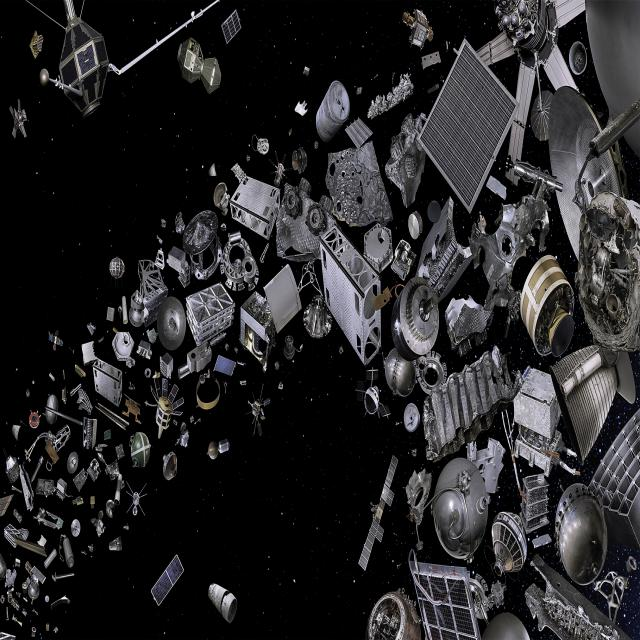large_debris: (547, 3, 640, 268), (34, 0, 226, 128), (445, 151, 562, 355), (467, 2, 586, 172), (418, 30, 523, 219), (419, 338, 524, 466), (549, 338, 636, 472), (574, 187, 638, 358), (522, 548, 634, 640), (319, 222, 391, 362), (429, 433, 506, 563), (322, 101, 392, 236), (406, 548, 507, 640), (586, 401, 638, 570), (508, 362, 579, 483), (514, 245, 578, 365), (260, 253, 332, 348), (351, 448, 404, 576), (554, 475, 609, 590), (273, 173, 337, 264), (384, 106, 430, 208), (393, 270, 440, 364), (174, 19, 224, 104), (225, 174, 283, 243), (236, 284, 279, 368), (186, 280, 237, 349), (128, 244, 167, 330), (367, 582, 423, 640), (489, 503, 529, 583), (175, 328, 230, 384), (475, 184, 520, 252), (363, 70, 415, 128), (314, 70, 352, 147), (183, 206, 220, 284), (144, 375, 185, 443), (403, 466, 432, 554), (353, 360, 387, 432), (148, 548, 186, 610), (478, 597, 530, 640), (23, 422, 71, 467), (245, 378, 273, 447), (380, 350, 418, 400), (156, 296, 186, 352), (92, 356, 124, 408), (97, 449, 125, 506), (400, 8, 436, 52), (42, 391, 84, 428), (206, 578, 239, 624), (362, 224, 392, 274), (192, 368, 226, 412), (2, 523, 48, 555), (127, 427, 152, 475), (173, 413, 203, 452), (7, 96, 30, 145), (93, 402, 131, 431), (22, 560, 46, 605), (124, 478, 149, 519), (111, 327, 135, 368), (34, 476, 73, 501), (167, 244, 190, 286), (248, 125, 274, 162), (420, 37, 444, 76), (564, 42, 591, 76), (218, 9, 242, 47), (32, 505, 65, 531), (104, 293, 128, 328), (212, 351, 238, 383), (18, 462, 34, 512), (204, 436, 233, 463), (212, 180, 231, 220), (107, 250, 128, 286), (2, 446, 21, 484), (121, 392, 142, 425), (160, 449, 179, 485), (28, 27, 46, 63), (0, 552, 17, 589), (282, 329, 300, 363), (81, 416, 98, 451), (59, 533, 76, 568), (404, 400, 418, 440), (289, 150, 311, 174), (76, 386, 93, 416), (157, 352, 175, 380), (71, 466, 89, 493), (90, 510, 106, 539), (81, 338, 96, 368), (47, 328, 64, 354), (134, 340, 153, 362), (294, 98, 310, 124), (30, 455, 44, 484), (50, 593, 71, 612), (87, 457, 102, 482), (0, 492, 15, 517), (175, 209, 188, 237), (28, 406, 43, 430), (144, 324, 159, 346), (43, 547, 57, 570), (66, 451, 79, 475), (108, 534, 123, 554), (51, 571, 76, 583), (70, 517, 82, 539), (74, 362, 87, 382), (301, 59, 312, 79), (207, 160, 217, 181), (106, 498, 116, 519), (70, 382, 82, 398), (115, 442, 125, 461), (12, 423, 21, 442), (0, 630, 17, 640), (61, 384, 68, 406), (12, 613, 23, 627), (160, 216, 169, 232), (13, 507, 22, 523), (6, 587, 15, 603), (87, 321, 97, 335), (142, 366, 152, 380), (45, 458, 54, 473), (72, 496, 84, 507), (11, 483, 23, 494), (127, 380, 137, 393), (12, 598, 21, 612), (103, 428, 111, 441), (97, 334, 105, 346), (49, 371, 56, 384), (87, 541, 94, 554), (122, 521, 130, 532), (156, 235, 163, 247), (90, 495, 95, 510), (68, 344, 75, 354), (22, 607, 28, 618), (79, 549, 87, 557), (32, 607, 39, 616), (31, 626, 36, 638), (44, 594, 50, 603), (15, 558, 20, 568), (0, 594, 5, 604), (53, 626, 59, 634), (63, 367, 66, 382), (6, 606, 9, 621), (26, 387, 30, 398), (15, 591, 21, 598), (46, 622, 50, 632), (32, 379, 35, 385)
